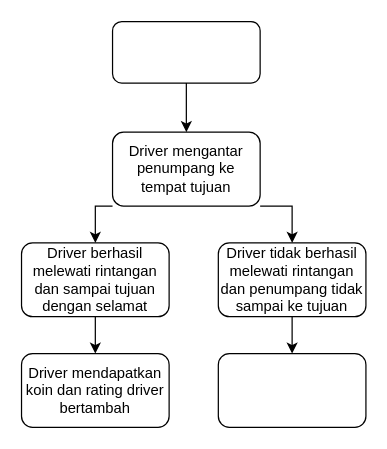
This 387x449 diagram has some shape labels left out. Each missing label, with the centre of its shape:
"Driver mengambil orderan" goes at pixel 185 51.
"Driver tidak menambahkan tambahan koin dan rating driver menurun" goes at pixel 291 389.
